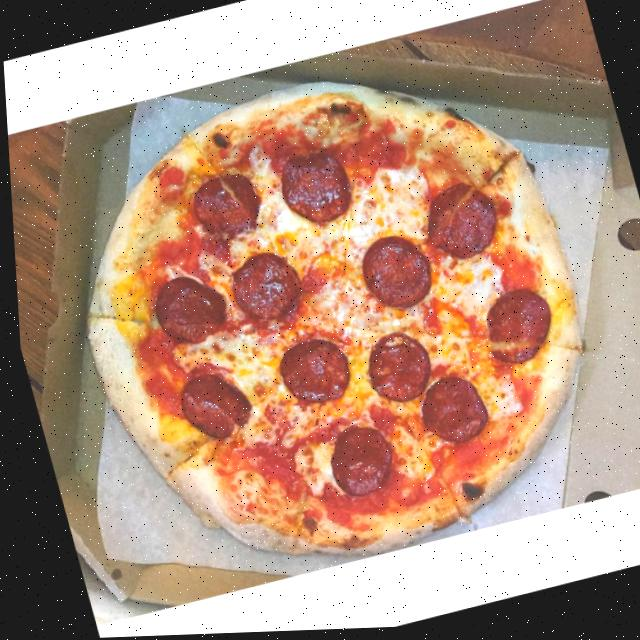pepperoni: (410, 177, 503, 270), (268, 144, 356, 234), (349, 229, 437, 319), (471, 285, 557, 373), (142, 269, 230, 353), (167, 366, 253, 450), (352, 327, 435, 413), (219, 249, 304, 332), (266, 332, 352, 414), (314, 420, 394, 505), (406, 371, 488, 453), (182, 170, 264, 247)
pizza: (24, 30, 631, 613)
